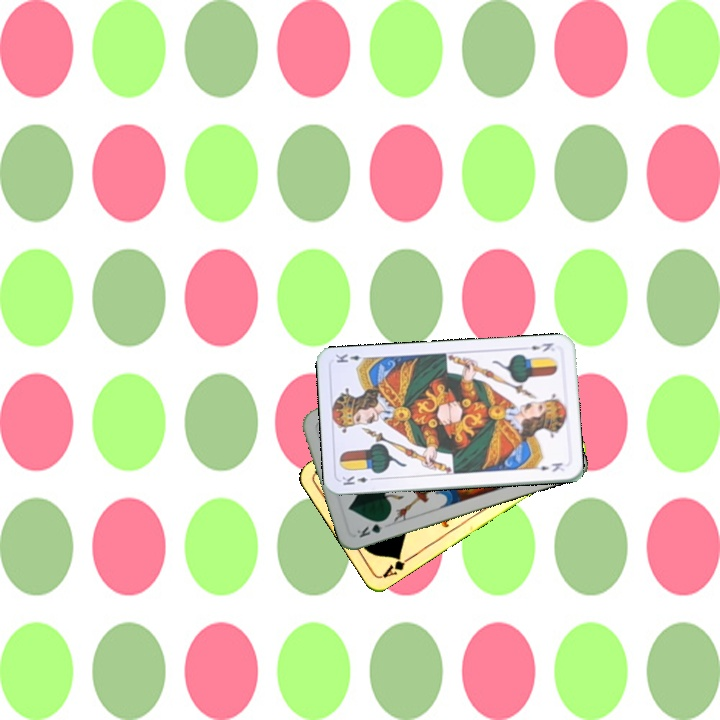EK: (338, 472, 379, 488), (527, 339, 556, 354)
GA: (378, 552, 415, 580)
GK: (353, 515, 390, 540)
